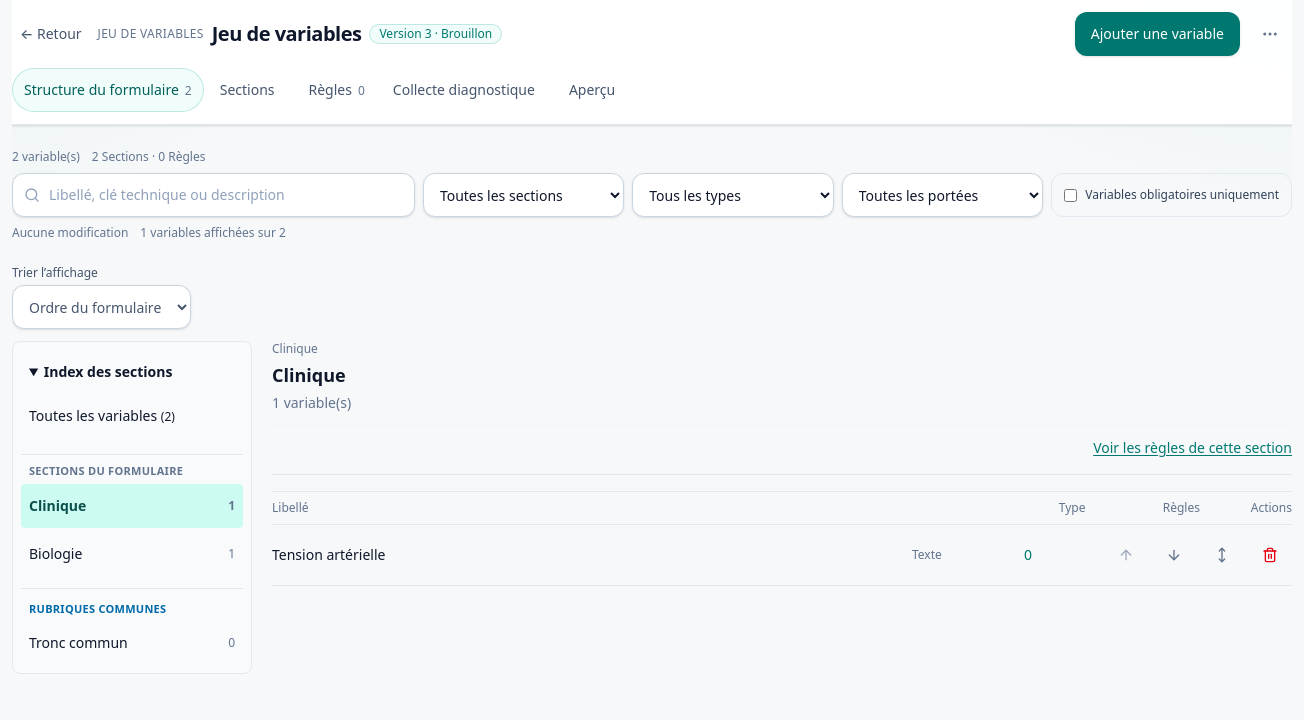
TemplateVersionEditor › editeur personnel rend la creation de copie visible meme pour un brouillon vierge
This screenshot has width=1304, height=720.
Click the button named "Plus d’actions".
click(1270, 34)  # box left=1248, top=12, right=1292, bottom=56
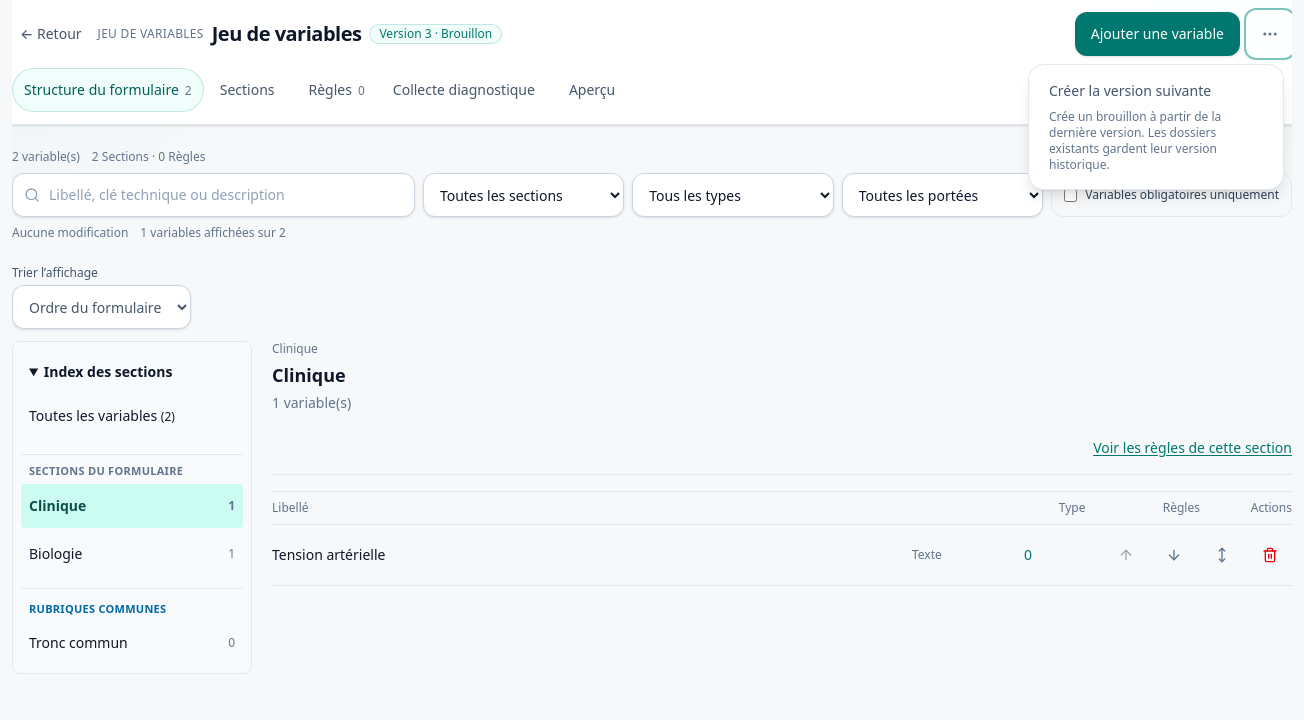
Expected: the button "Créer la version suivante" shows "brouillon", left=1037, top=73, right=1275, bottom=181
